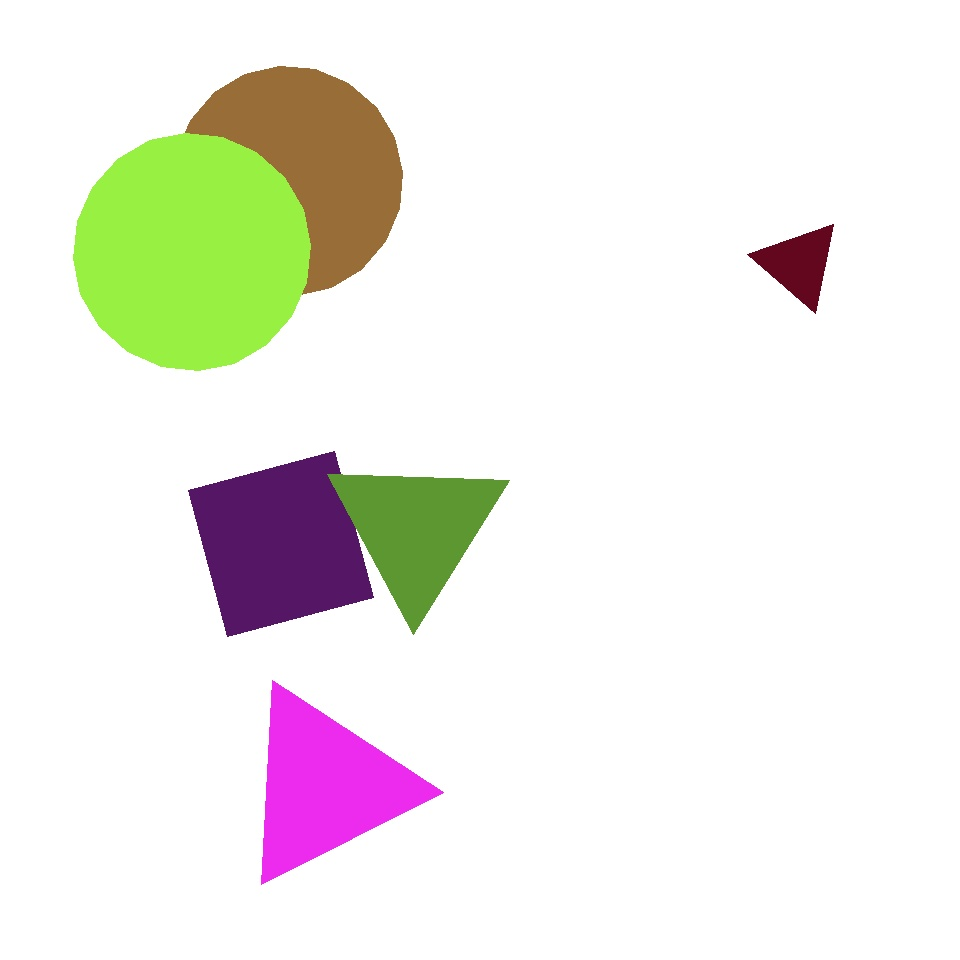circle: (160, 104, 420, 378), (235, 684, 417, 888), (326, 450, 508, 610), (774, 753, 914, 883), (756, 220, 842, 309)
square: (188, 451, 374, 636), (610, 666, 736, 790)
triangle: (303, 63, 676, 436), (74, 134, 311, 371), (174, 66, 402, 296)
